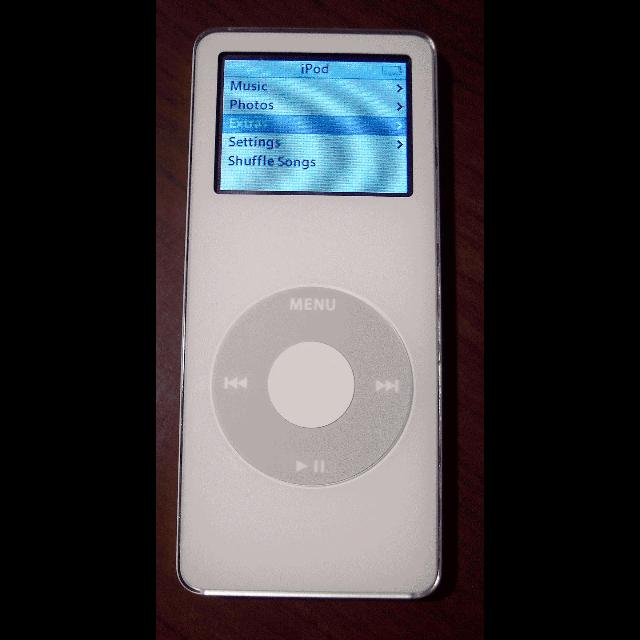Music-Player: (170, 21, 456, 608)
